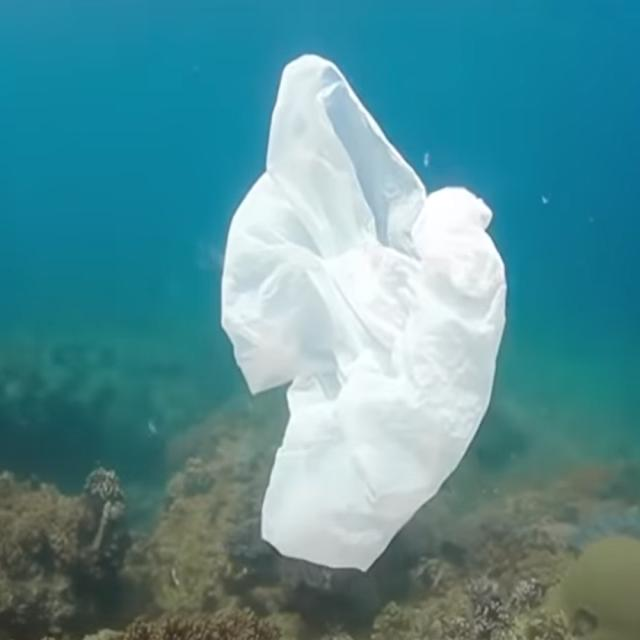plasticcover: (224, 63, 508, 573)
